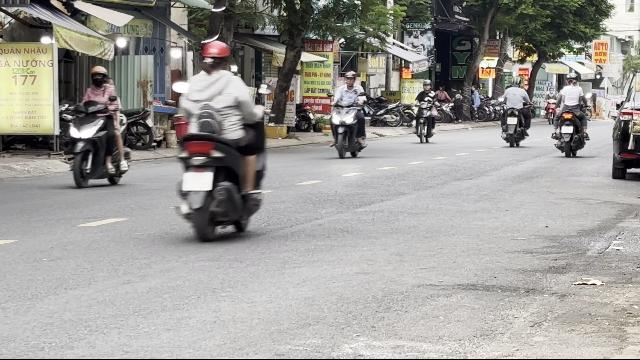helmet: (197, 40, 231, 72), (89, 65, 107, 85), (344, 70, 356, 86)
licenseplate: (182, 172, 214, 190)
motorcyclist: (170, 38, 270, 242), (61, 65, 131, 189), (327, 69, 369, 159)
